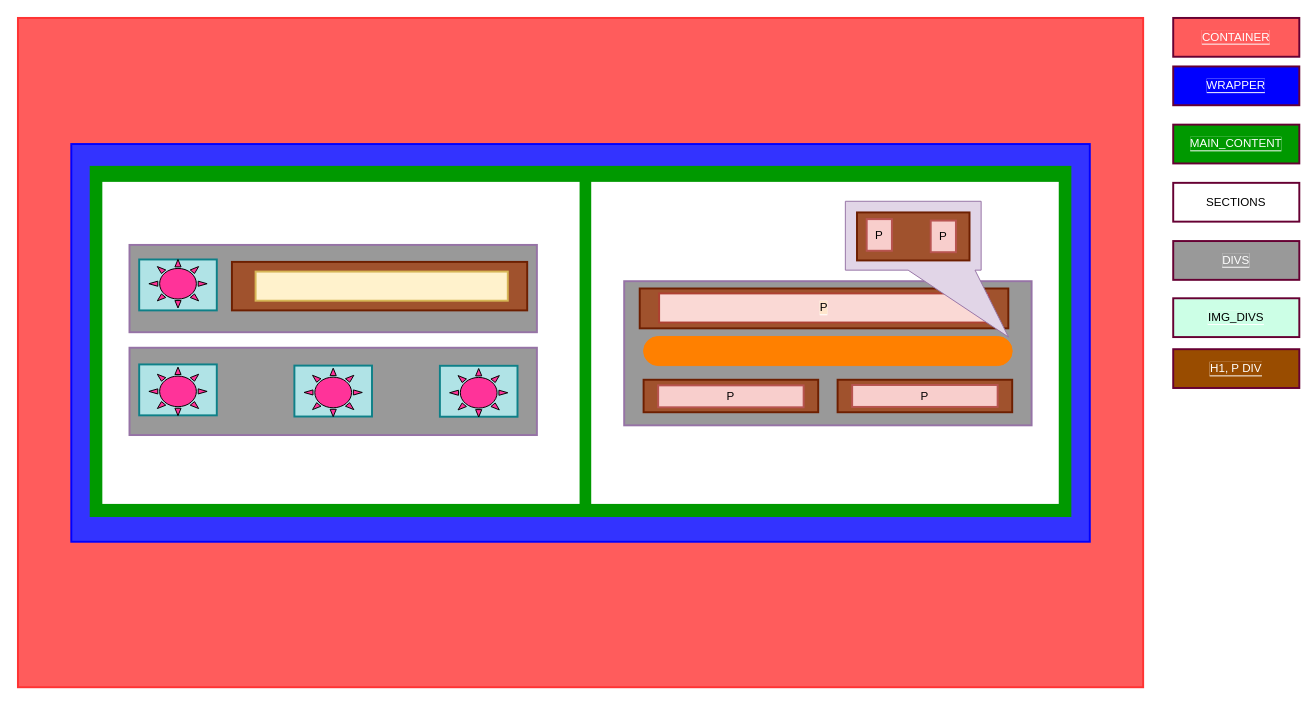
Some shapes in this 1316 by 704 pixel diagram are drawn without their labels. Each missing label, with the centre of its shape:
H1: point (381, 285)
Loader: point (827, 351)
